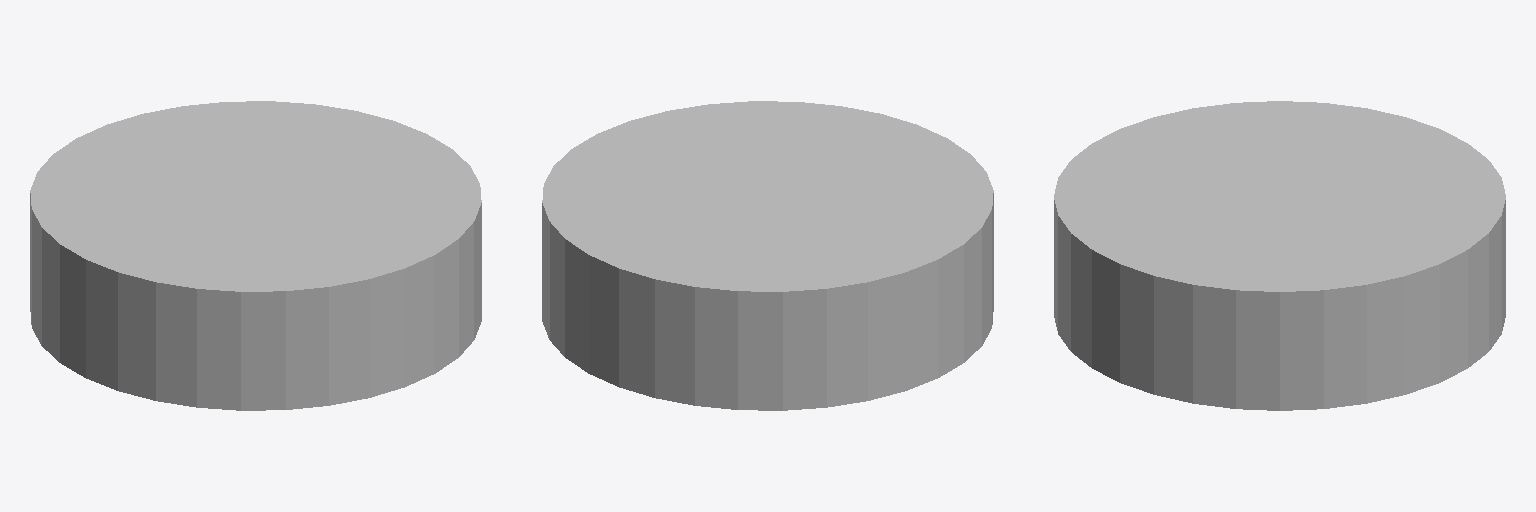
Rendered from drumsetV4_SmaolDrum001_Hitbox.obj.
3 views of the same model, side by side, from view 1: azimuth 30°, elevation 25°; view 2: azimuth 150°, elevation 25°; view 3: azimuth 270°, elevation 25° (orthographic).
Visible parts, largest first — view 1: drumsetV4_SmaolDrum001_Hitbox_Cylinder.004; view 2: drumsetV4_SmaolDrum001_Hitbox_Cylinder.004; view 3: drumsetV4_SmaolDrum001_Hitbox_Cylinder.004.
Boxes of the visible parts, x1=… form: drumsetV4_SmaolDrum001_Hitbox_Cylinder.004: x1=30, y1=101, x2=481, y2=410; drumsetV4_SmaolDrum001_Hitbox_Cylinder.004: x1=542, y1=101, x2=993, y2=410; drumsetV4_SmaolDrum001_Hitbox_Cylinder.004: x1=1054, y1=101, x2=1505, y2=410.
Bounding box in the file's own units: 1.5 × 0.4352 × 1.5.